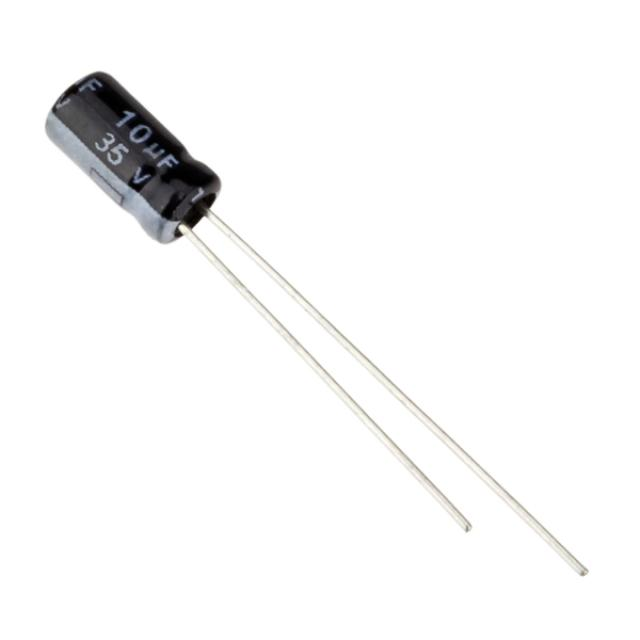Capacitor: (45, 73, 476, 537), (221, 224, 592, 579)
